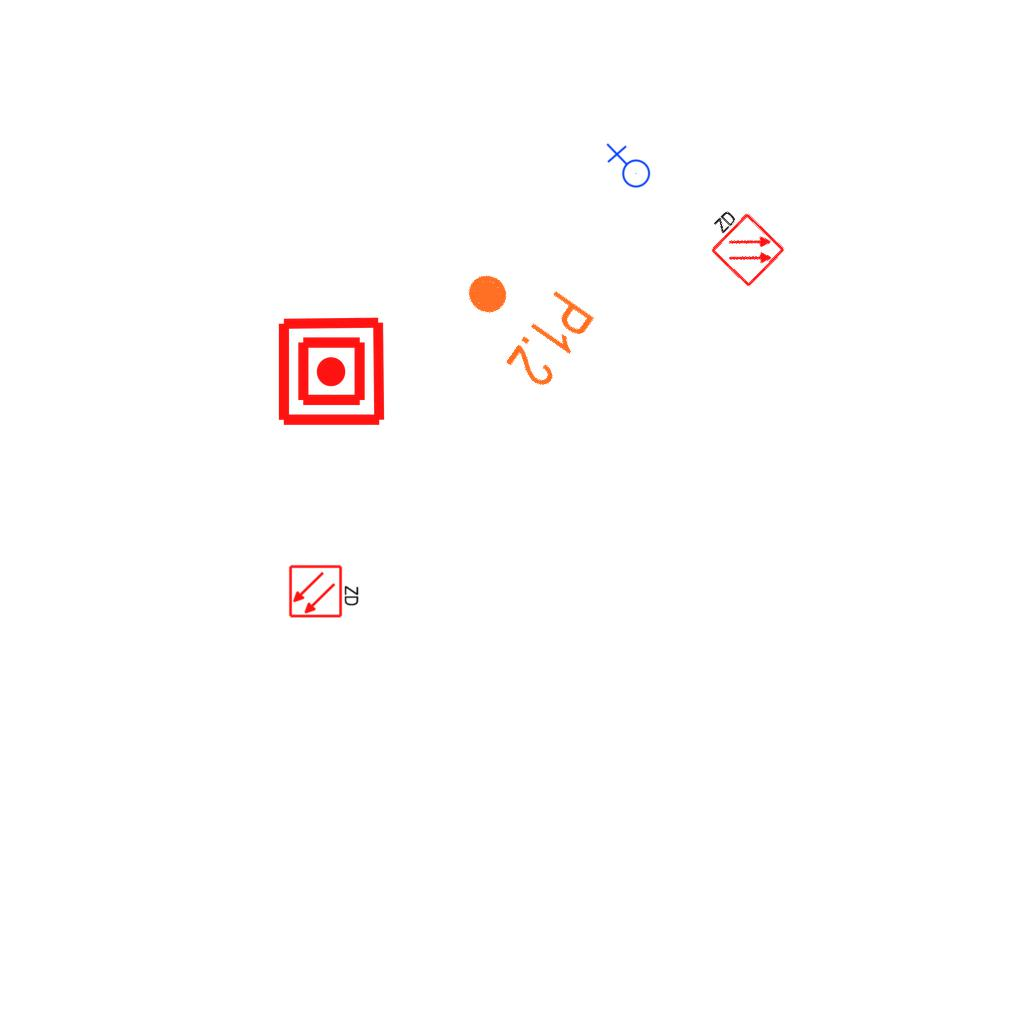Downlight_LED_Einbauleuchten_Flur: (441, 244, 600, 394)
Elektroanschluss_allgemein_230V_Geraeteanschlussdose_230V: (604, 143, 651, 192)
NAM-Nichtautomatischer_Melder: (275, 315, 388, 428)
ZD_Melder_in_Zwischendecke_mit_Revisionsoeffnung_mind_40_x_40_cm: (694, 197, 787, 291), (288, 562, 362, 619)
